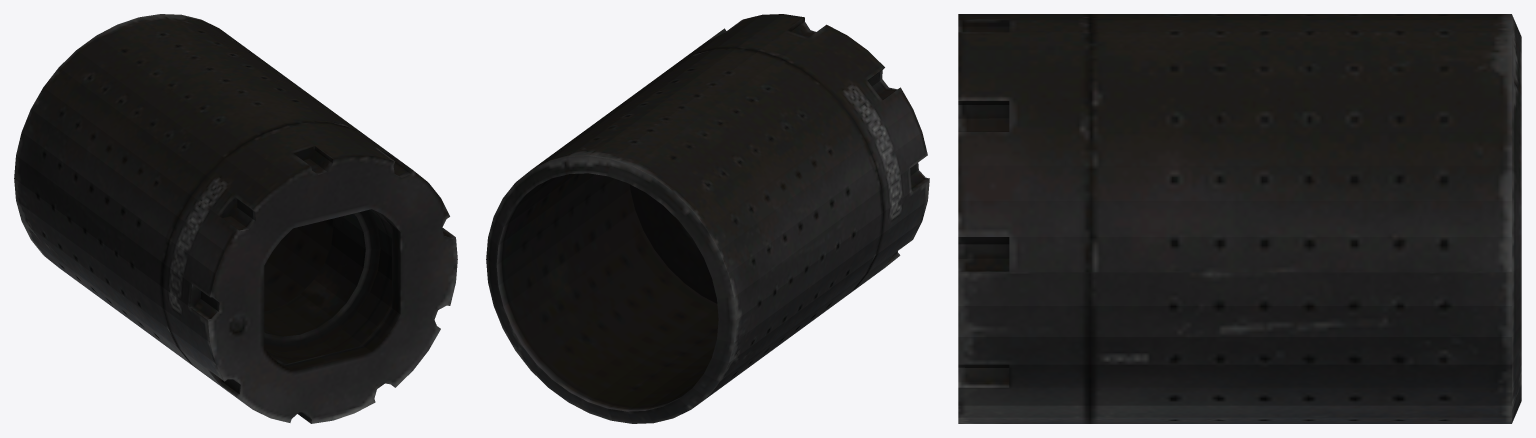
The picture shows the model from 3 angles, left to right: view 1: azimuth 30°, elevation 25°; view 2: azimuth 150°, elevation 25°; view 3: azimuth 270°, elevation 25°; orthographic projection. The views are drawn at different scales.
Parts seen in each view (by area): view 1: TW_5f6339d53ada5942720e2dc3_PZ_Import; view 2: TW_5f6339d53ada5942720e2dc3_PZ_Import; view 3: TW_5f6339d53ada5942720e2dc3_PZ_Import.
Boxes of the visible parts, x1=… form: TW_5f6339d53ada5942720e2dc3_PZ_Import: x1=14, y1=14, x2=457, y2=423; TW_5f6339d53ada5942720e2dc3_PZ_Import: x1=486, y1=14, x2=929, y2=423; TW_5f6339d53ada5942720e2dc3_PZ_Import: x1=958, y1=14, x2=1521, y2=423.
Size of the model in its own units: 0.0232 by 0.0318 by 0.0232.
Materials: 1 (1 with a texture image).
